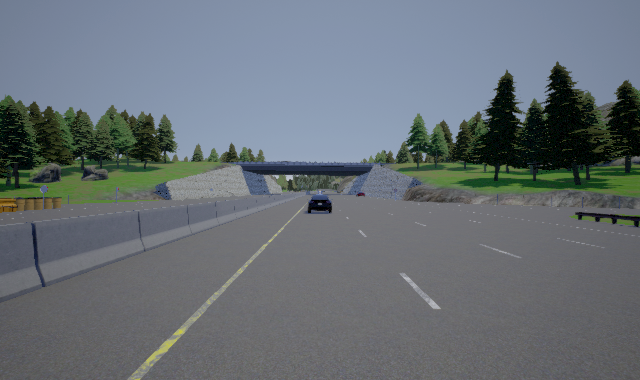traffic_sign: (39, 185, 49, 195)
vehicle: (307, 190, 333, 213)
